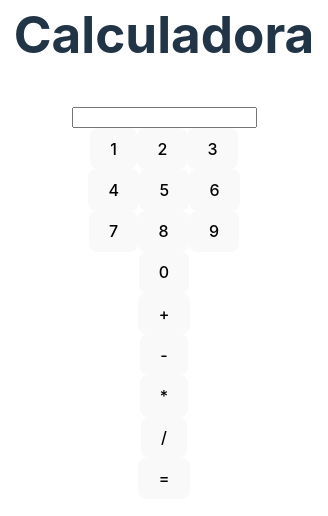
Test case: calculadora › debe mostrar el resultado de la operacion
Click the button "1" at coordinates (114, 149), box left=90, top=128, right=137, bottom=170
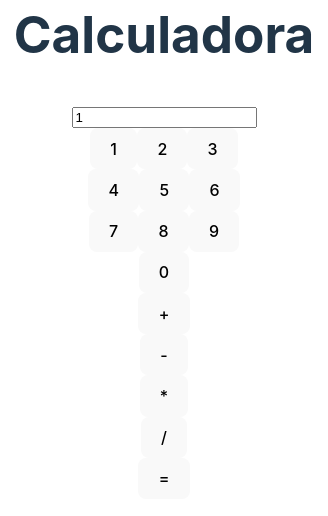
Click the button "+" at coordinates (164, 314), box left=138, top=293, right=190, bottom=334
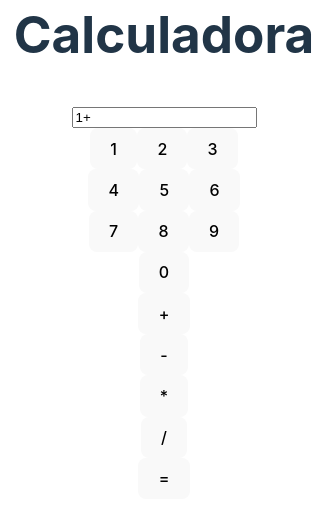
Click the button "1" at coordinates (114, 149), box left=90, top=128, right=137, bottom=170
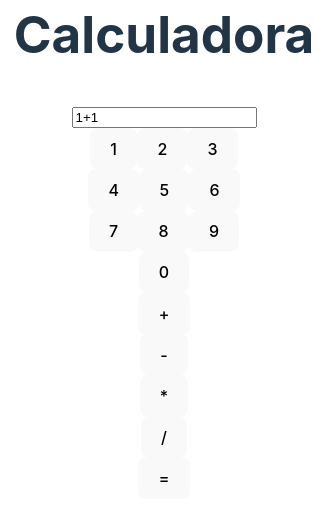
Click the button "=" at coordinates (164, 478), box left=138, top=458, right=190, bottom=499
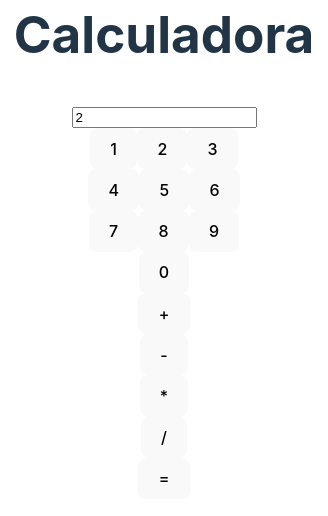
expect the field holds "2": met, box left=72, top=107, right=256, bottom=128
